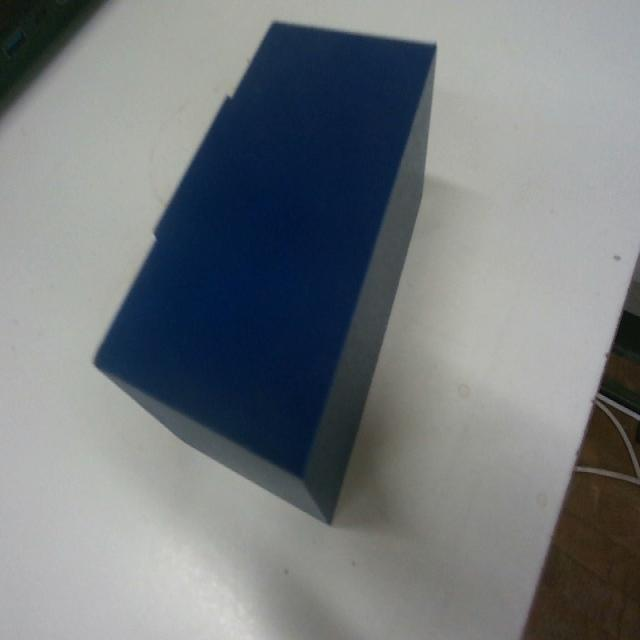Blue Cuboid: (91, 18, 438, 526)
